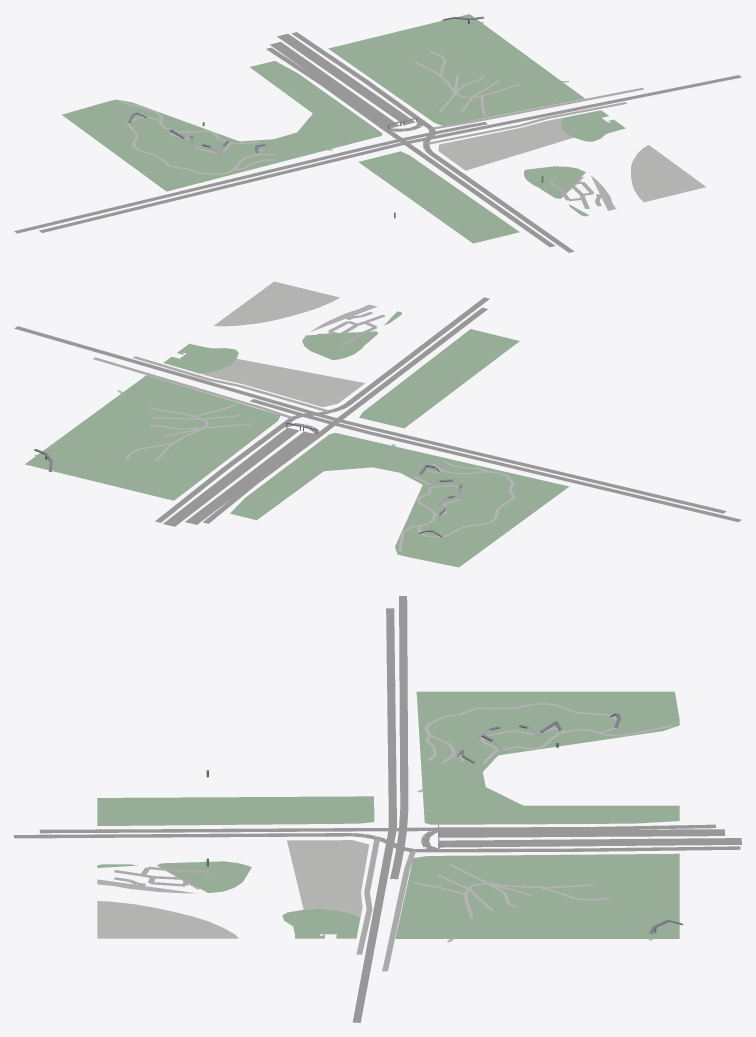
The picture shows the model from 3 angles, top to bottom: view 1: azimuth 30°, elevation 25°; view 2: azimuth 150°, elevation 25°; view 3: azimuth 270°, elevation 25°; orthographic projection. The views are drawn at different scales.
Bounding box in the file's own units: 861 × 9.52 × 625.
